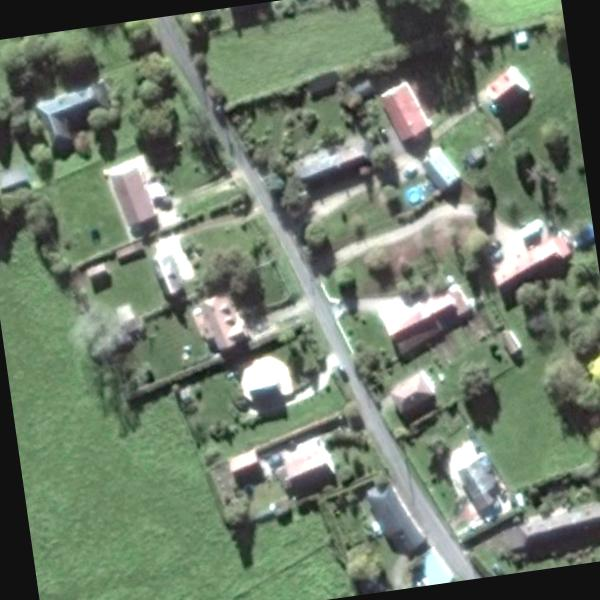Buildings: (386, 291, 474, 352), (515, 505, 600, 552), (105, 165, 163, 231), (479, 236, 571, 276), (276, 440, 340, 491), (37, 74, 95, 126), (376, 77, 423, 138), (192, 300, 240, 348), (458, 464, 504, 507), (246, 362, 282, 402), (490, 73, 532, 106), (396, 379, 433, 412), (226, 450, 260, 482)
